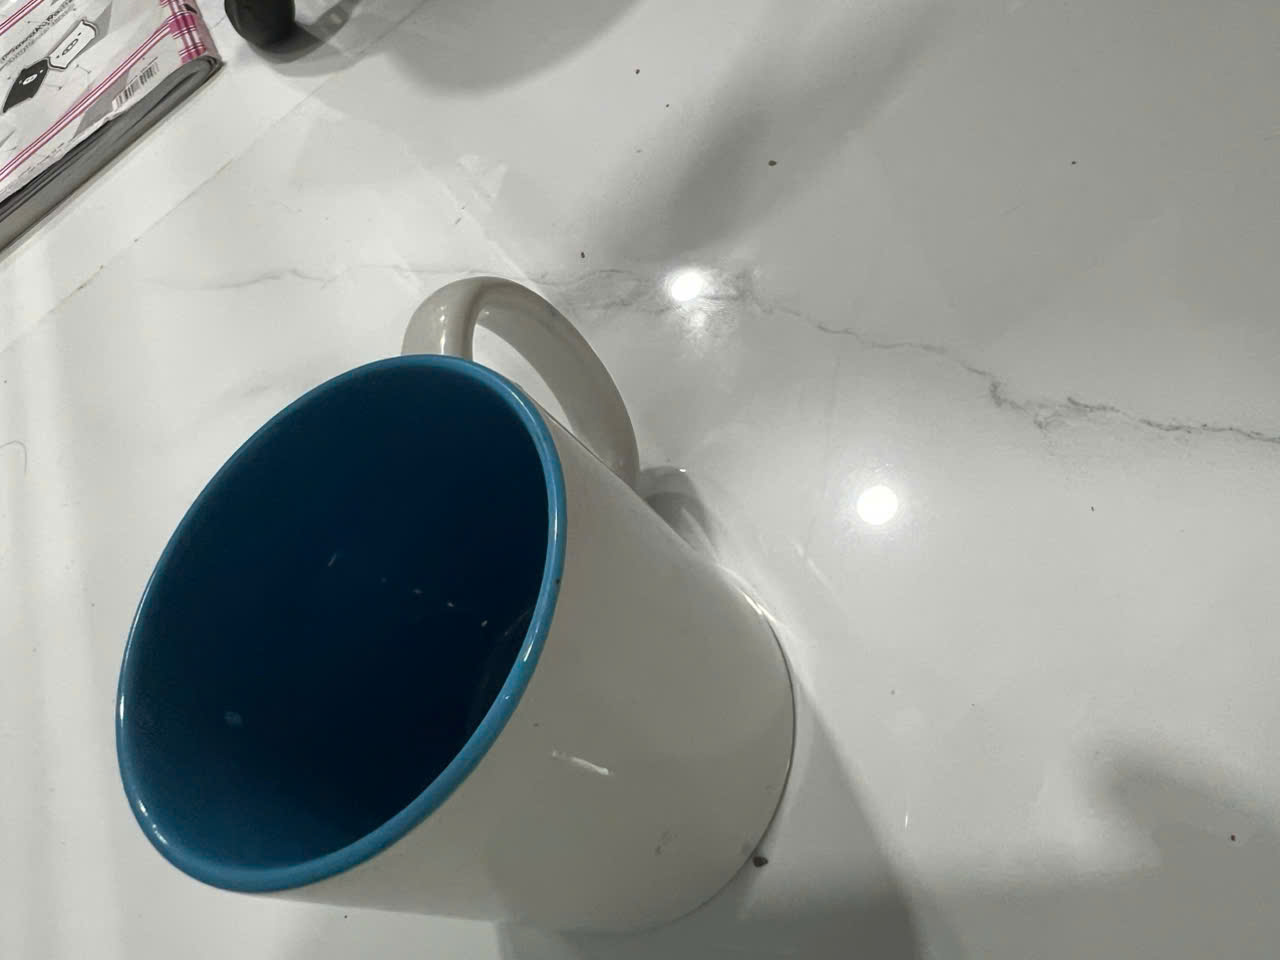ly coc: (65, 281, 797, 911)
